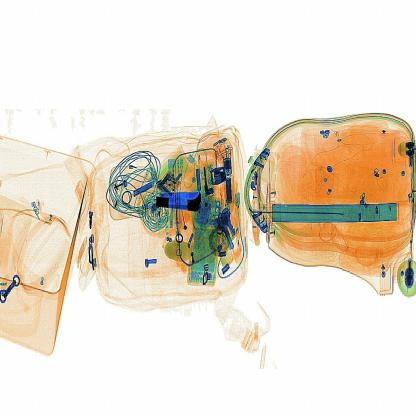knife: (145, 186, 204, 216)
